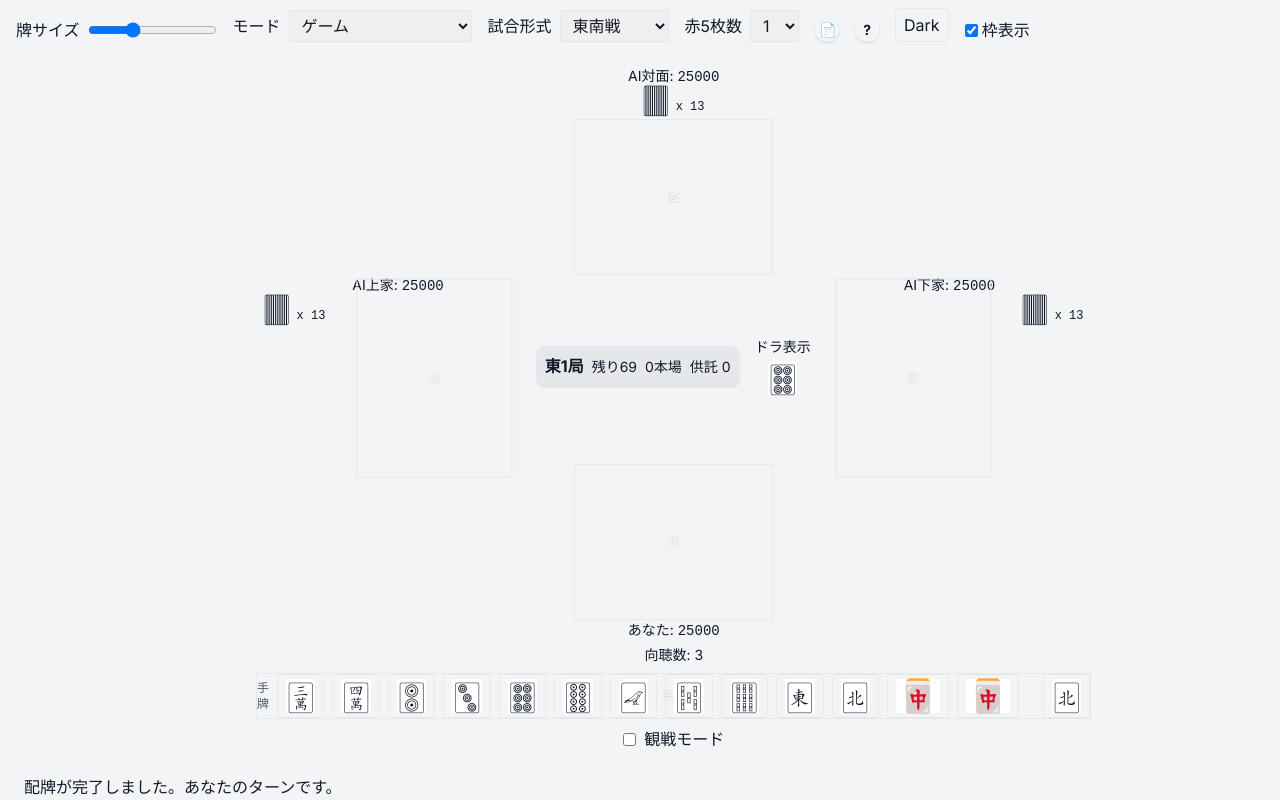
it: App mode selector › switches between game and fu quiz
This screenshot has width=1280, height=800.
Expected: the checkbox labelled "観戦モード" is shown, 623,732 -> 636,746
Step 1. Select "符クイズ" in the dropdown labelled "モード" → [380, 26], box 288,10 -> 472,42
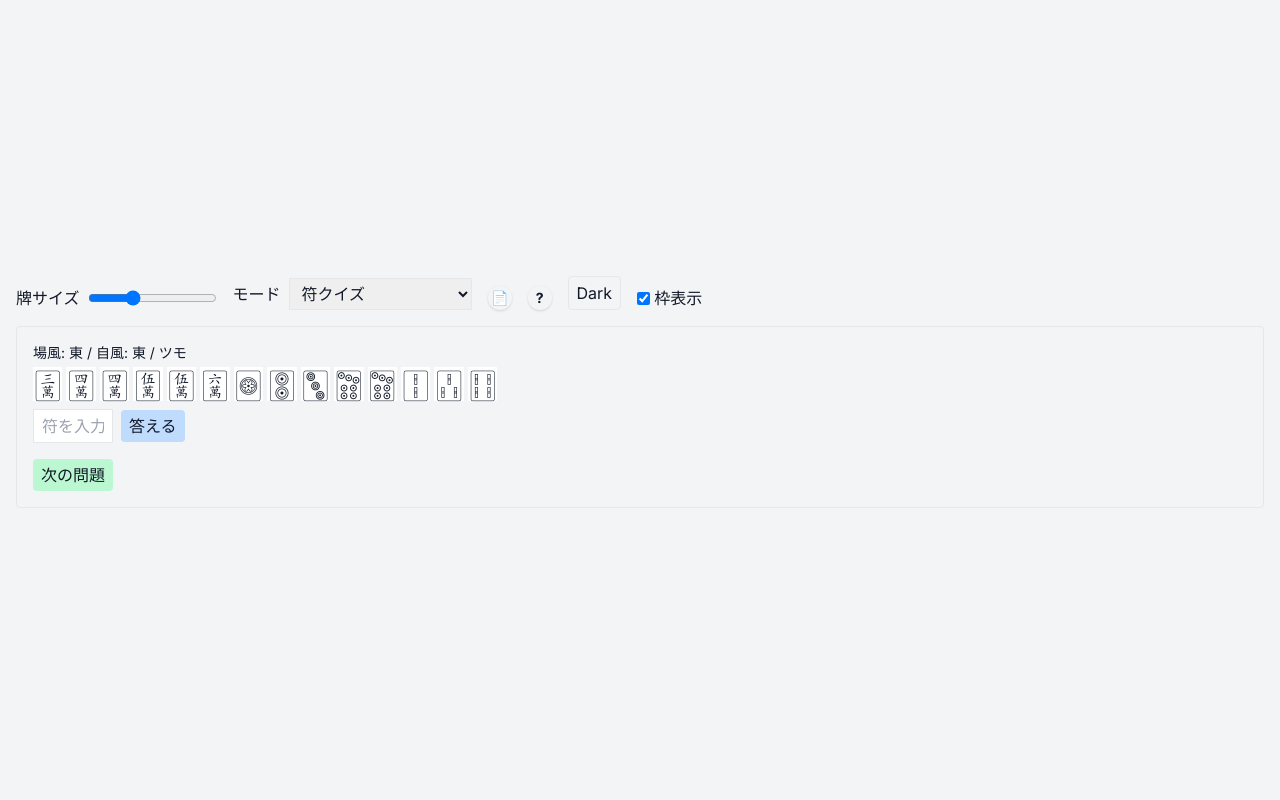
Now the field with placeholder "符を入力" is shown, box 33,409 -> 113,443
